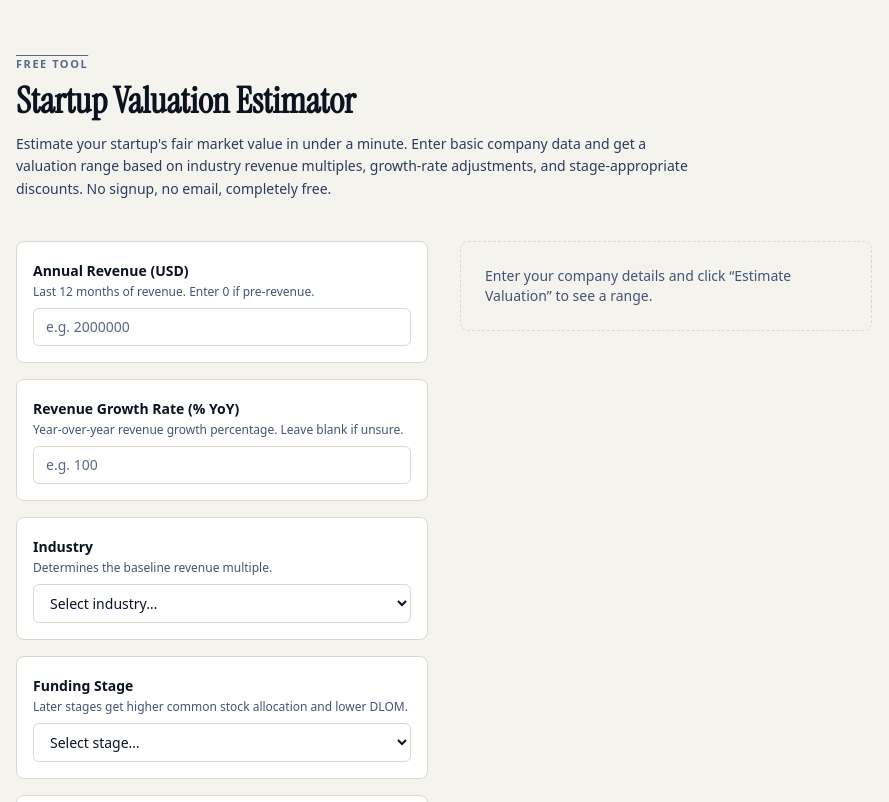
Test: ValuationEstimatorPage › produces reasonable numbers for a SaaS Series A startup
Type "2000000" into the number field labelled "Annual Revenue (USD)" at (222, 327), box [33,308,411,346]
Type "100" into the number field labelled "Revenue Growth Rate (% YoY)" at (222, 465), box [33,446,411,484]
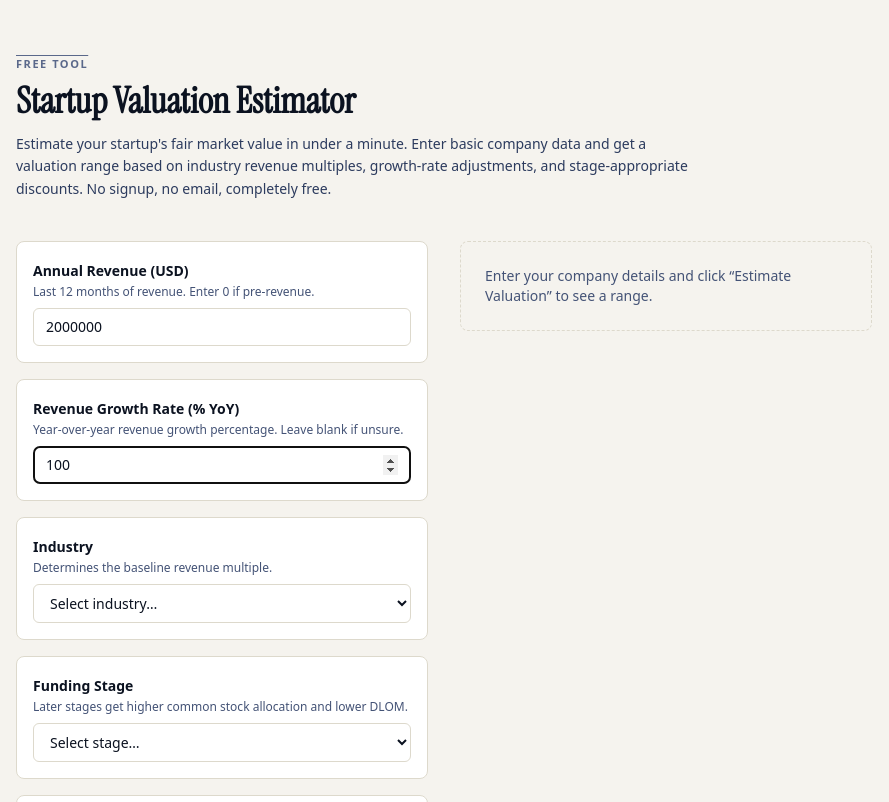
Select "SaaS / Cloud Software" in the dropdown labelled "Industry" at (222, 603), box [33,584,411,623]
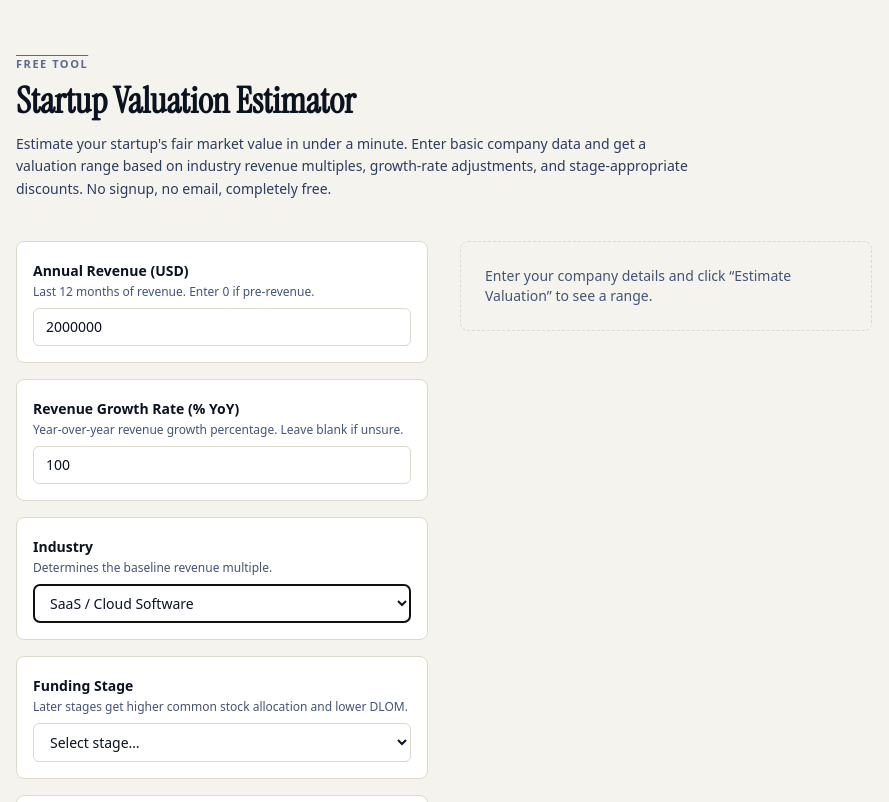
Select "Series A" in the dropdown labelled "Funding Stage" at (222, 742), box [33,723,411,762]
(page scrolled)
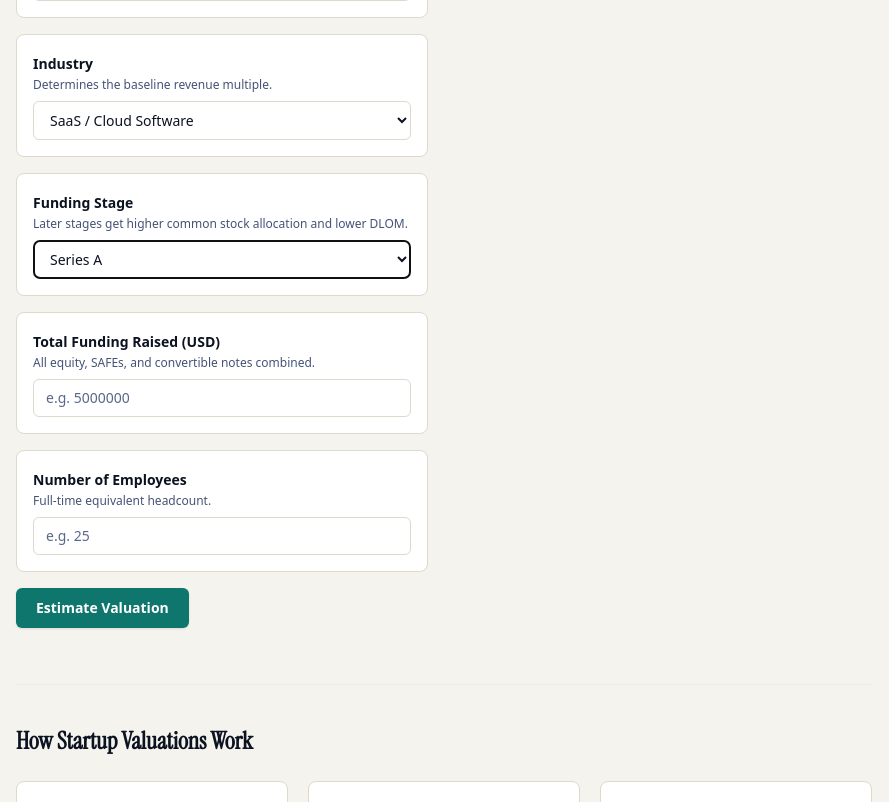
Type "5000000" into the number field labelled "Total Funding Raised (USD)" at (222, 398), box [33,379,411,417]
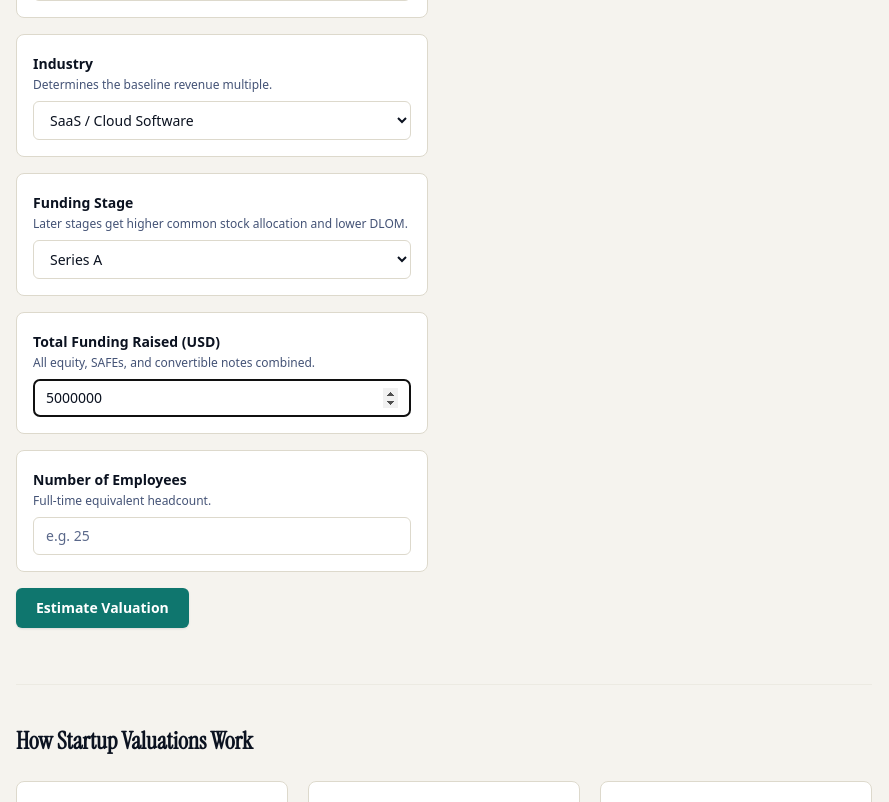
Type "25" into the number field labelled "Number of Employees" at (222, 536), box [33,517,411,555]
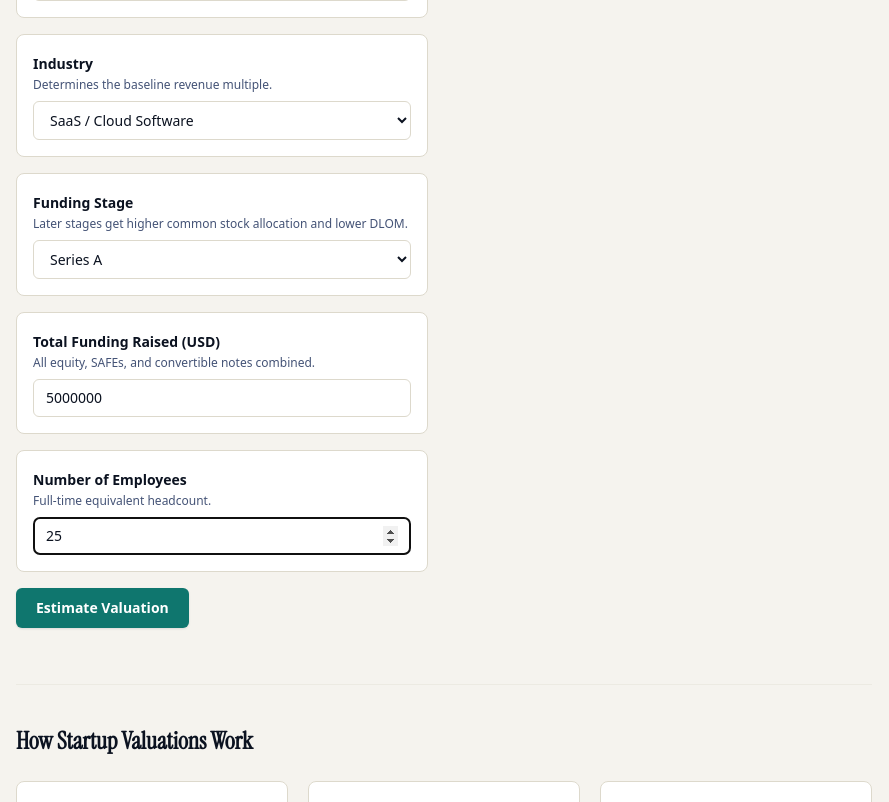
Click the button with test id "estimate-button" at (102, 608), box [16,588,189,628]
(page scrolled)
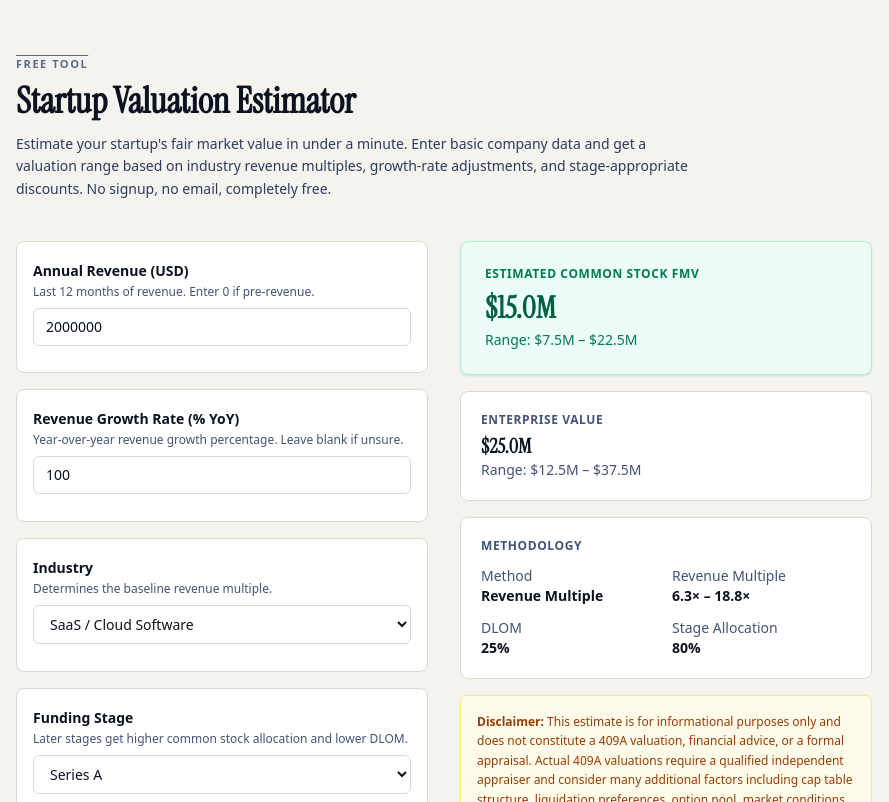
Result: the text with test id "ev-mid" shows "M" at [481,433,531,459]
Result: the text with test id "fmv-mid" shows "M" at [485,290,556,326]
